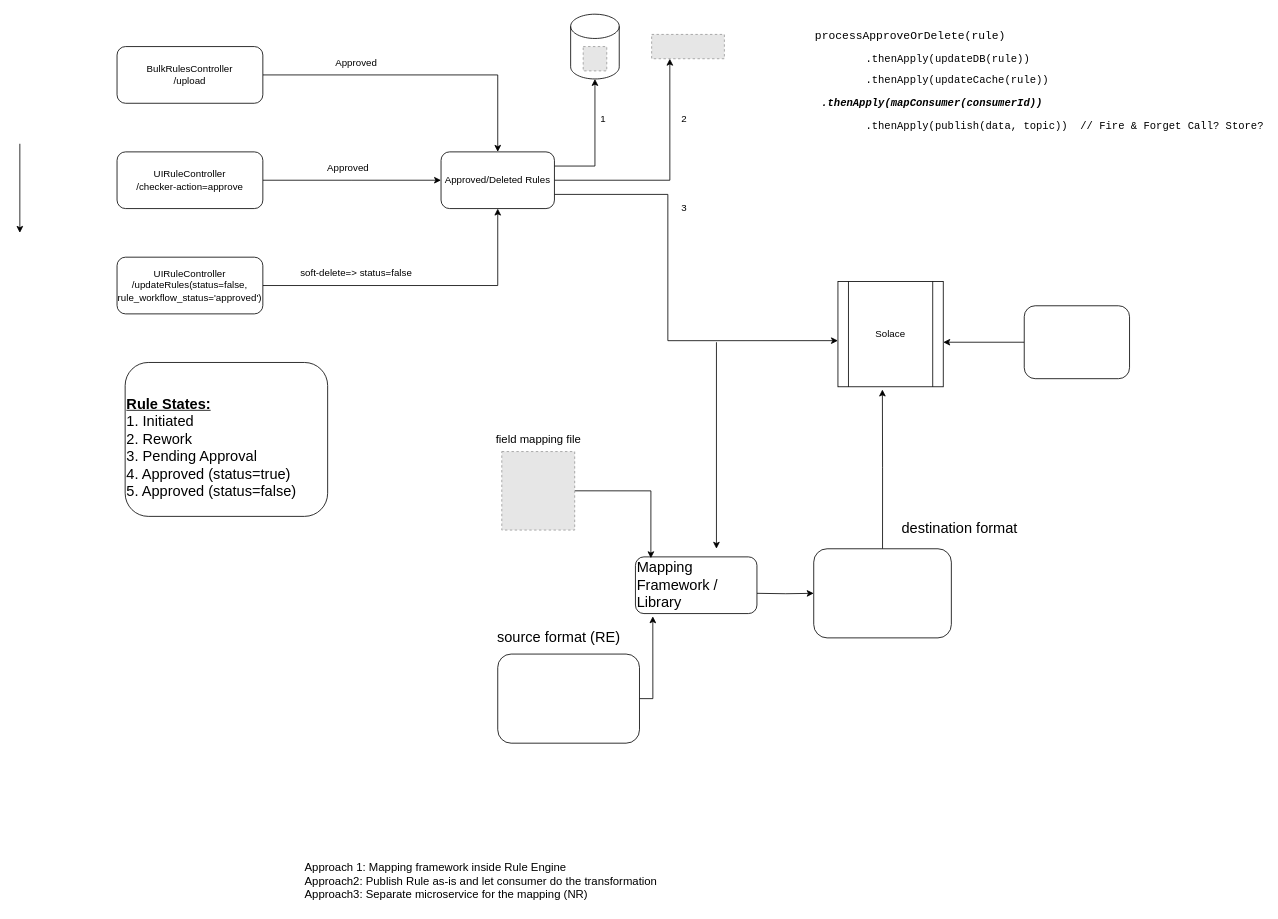
This 1278x919 diagram has some shape labels left out. Grey dashed boxes stand in for pictures. Here are the shapes that lost their labels. From the top down, the box of each, then its label:
(1023, 305, 1130, 379): Consumer1 Shape
(813, 548, 951, 638): 1. id 2. e_fmid 3. event
(497, 653, 639, 743): 1.supp_rule_id_pk 2.entity_fmid 3.event
